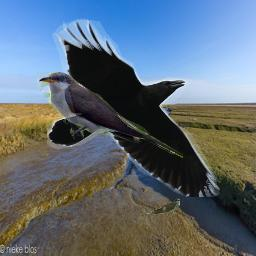Crow: (47, 18, 220, 197)
Cuckoo: (37, 72, 183, 160), (139, 198, 180, 216)
